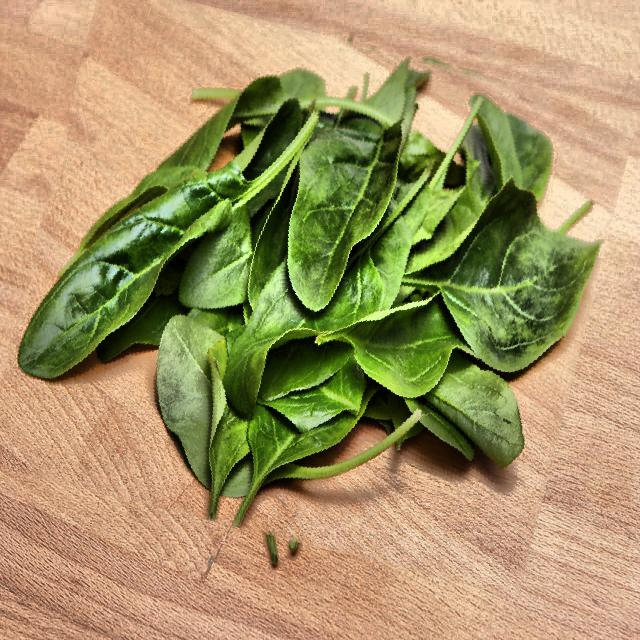spinach: (7, 8, 613, 567)
